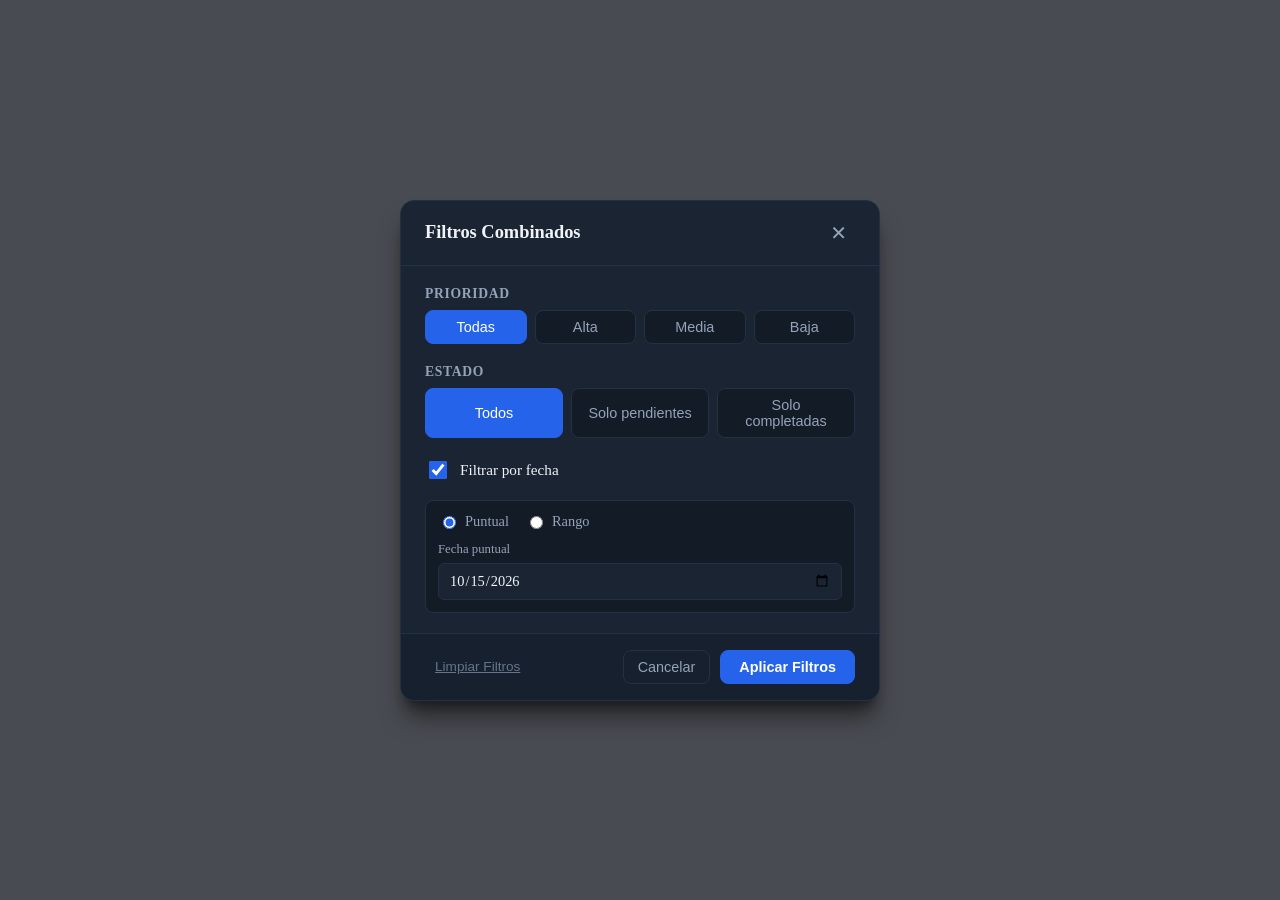
Test: Componente Accesible · FilterModal (Buffer Local Desacoplado y Control AND) › debería permitir conmutar entre tipo PUNTUAL y RANGO
Expected: the date field labelled "Fecha puntual" is shown, [438,562,842,600]
Expected: the field labelled "fecha desde" is not shown
Click the radio button labelled "Rango": click(536, 522) [530,516,543,529]
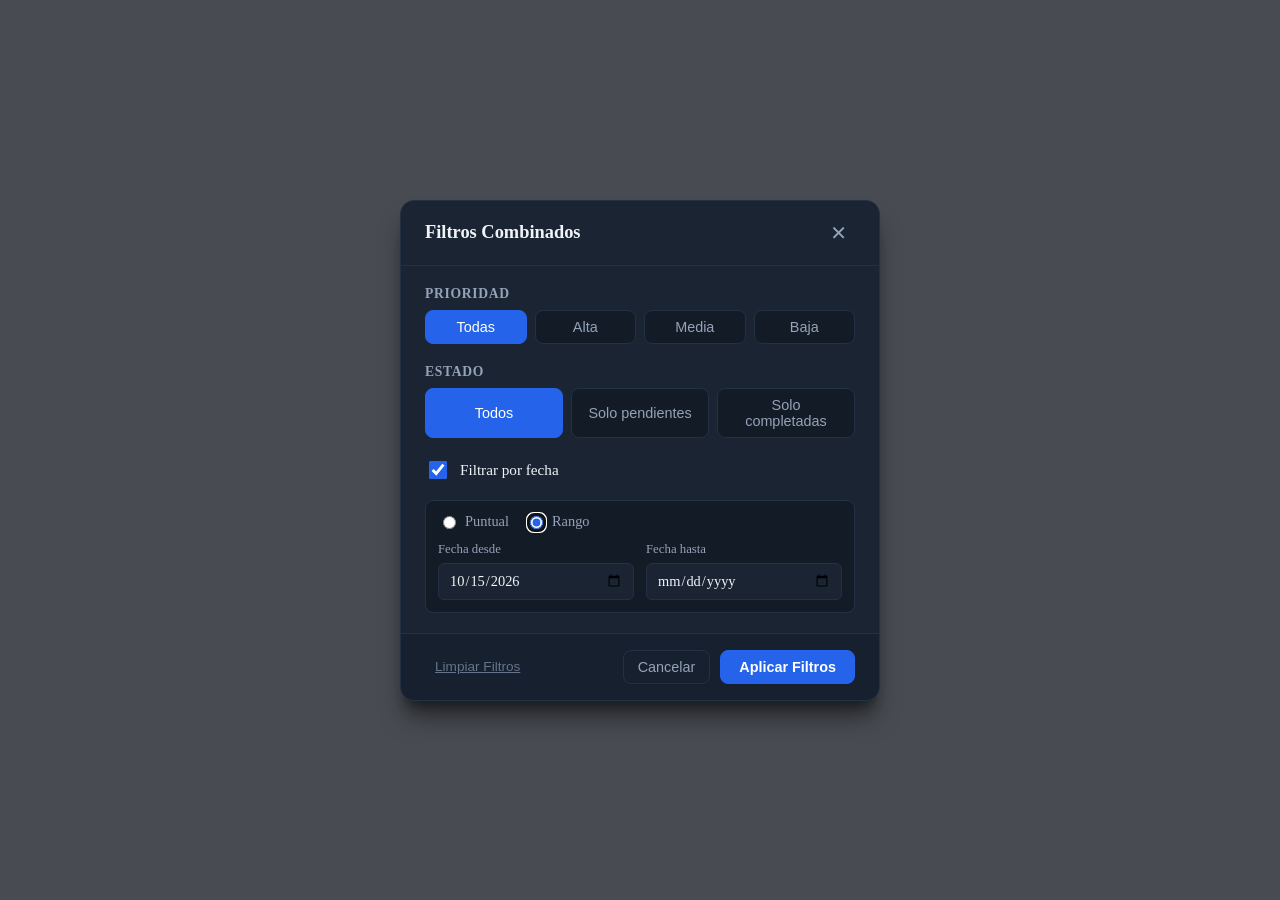
Expected: the date field labelled "Fecha desde" is shown, [438,562,634,600]
Expected: the date field labelled "Fecha hasta" is shown, [646,562,842,600]
